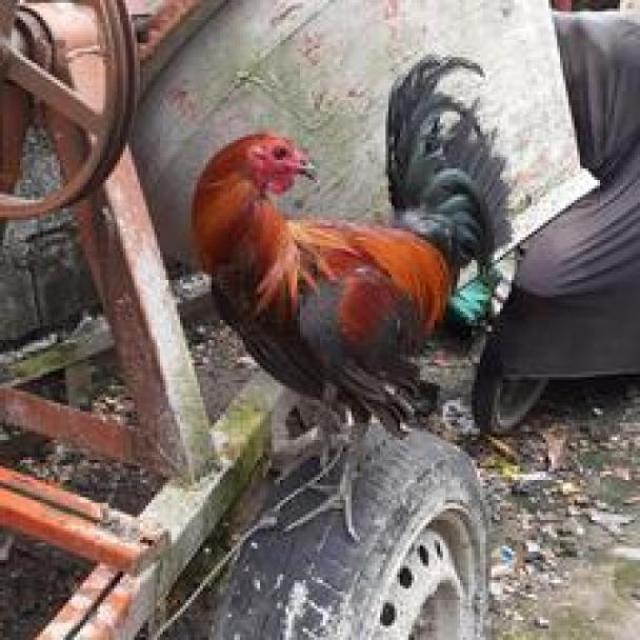Chicken: (181, 56, 544, 544)
